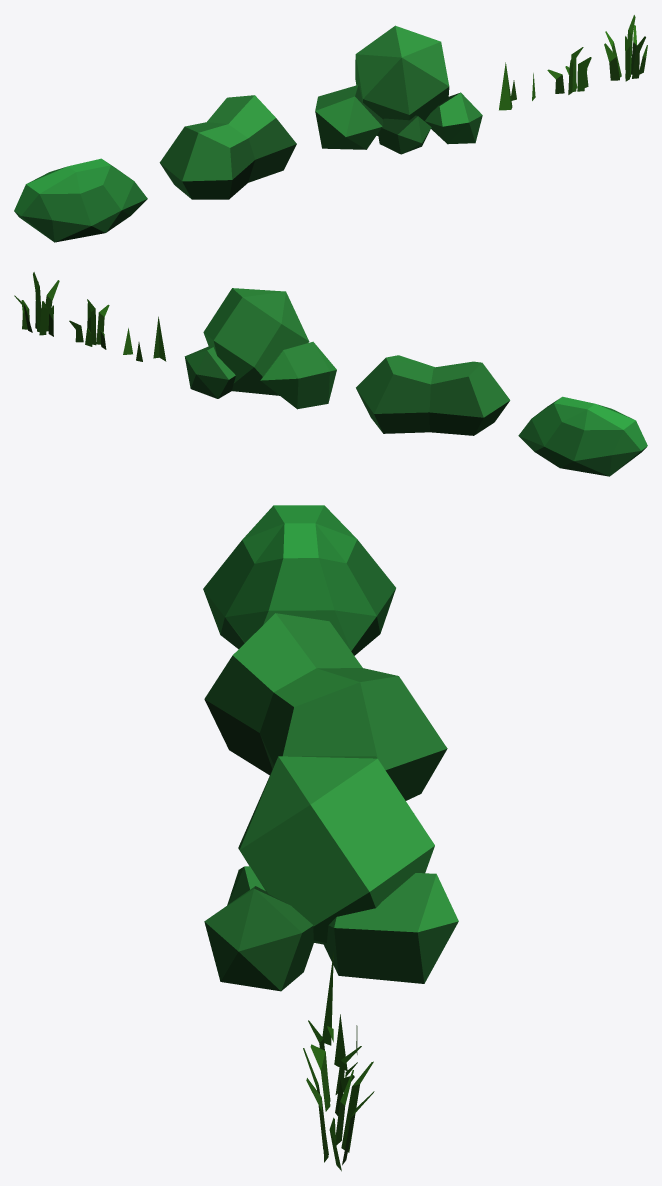
The model's file is Bushes_Set1.fbx.
3 views of the same model, one above another, from view 1: azimuth 30°, elevation 25°; view 2: azimuth 150°, elevation 25°; view 3: azimuth 270°, elevation 25° (orthographic). The views are drawn at different scales.
Visible parts, largest first — view 1: Box050; view 2: Box050; view 3: Box050.
Part boxes in pixels (x1,y1,x2,y2): Box050: (14, 15, 647, 242); Box050: (14, 272, 647, 476); Box050: (203, 505, 458, 1171).
Bounding box in the file's own units: 359 × 52.98 × 64.85.
